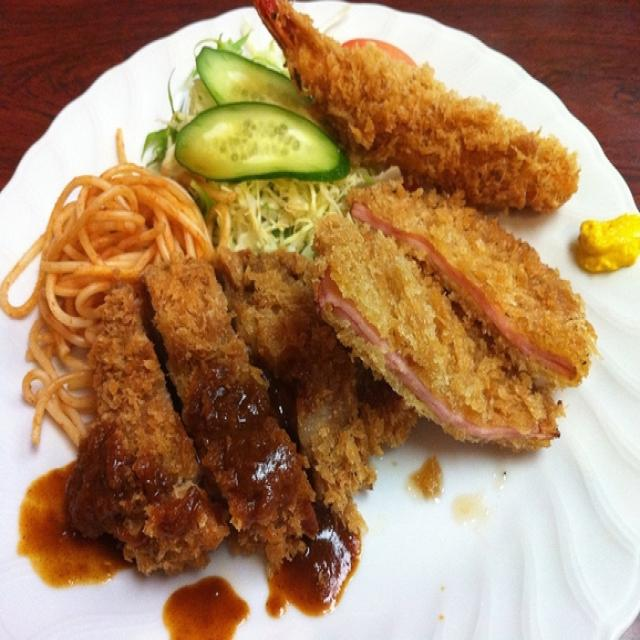炸货点心: (13, 13, 628, 618)
